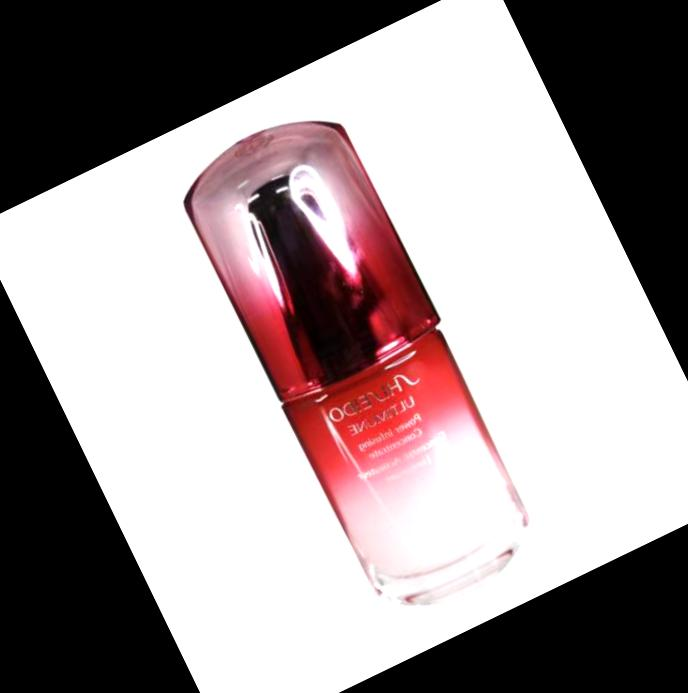cosmetic: (162, 90, 552, 628)
